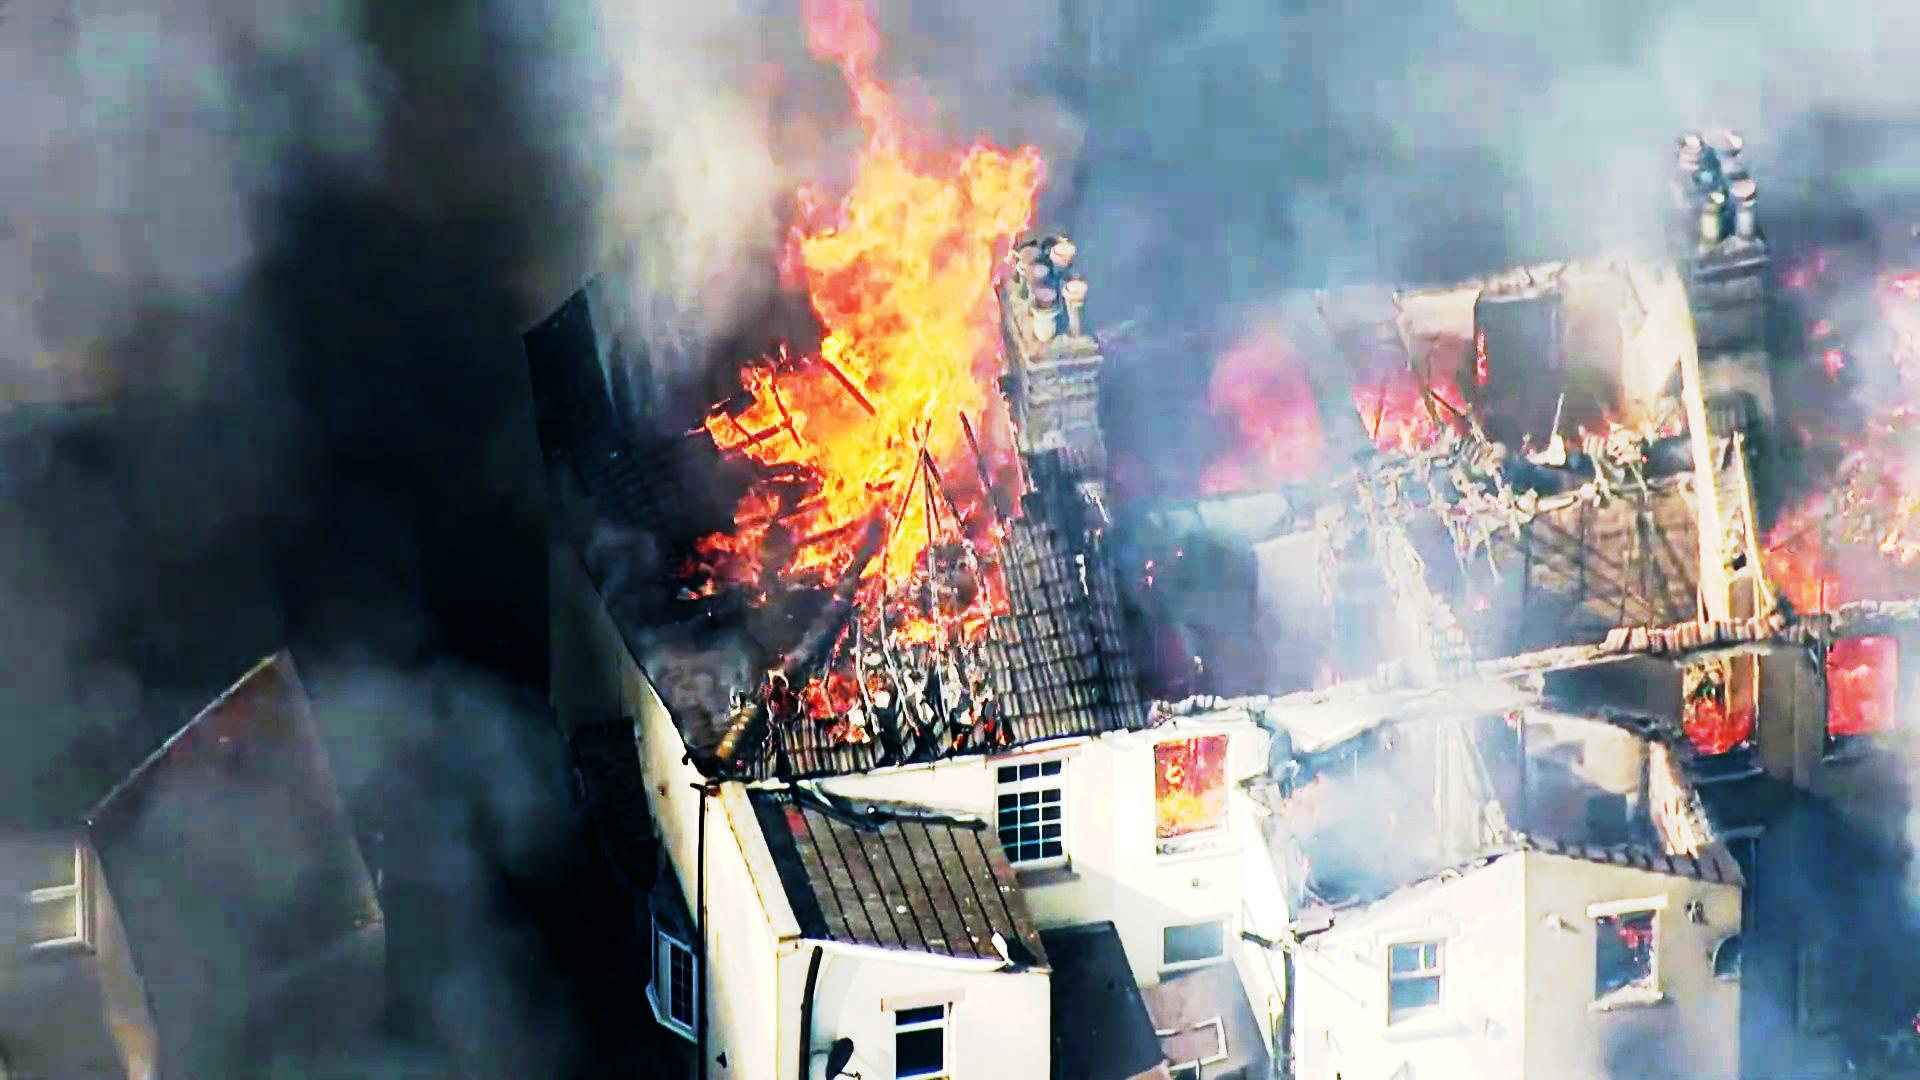fire: (723, 3, 1019, 629), (1375, 382, 1481, 483), (1825, 641, 1911, 757), (1155, 748, 1244, 832)
smoke: (0, 0, 501, 533)
